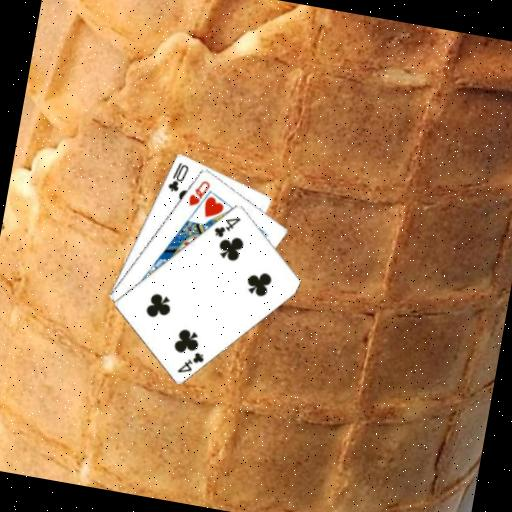10C: (164, 157, 191, 195)
4C: (210, 210, 243, 242), (173, 345, 206, 377)
QH: (184, 174, 212, 210)
